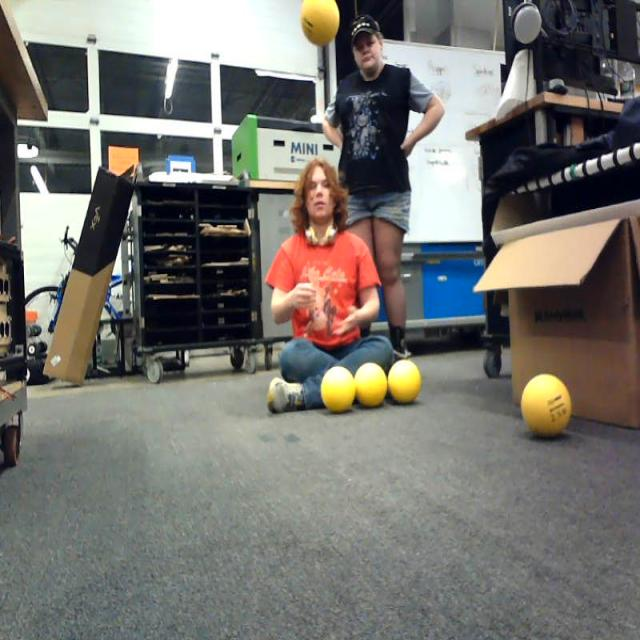Fuel: (521, 373, 571, 440), (299, 0, 339, 46), (386, 359, 422, 406), (321, 366, 355, 414), (353, 362, 388, 408)
